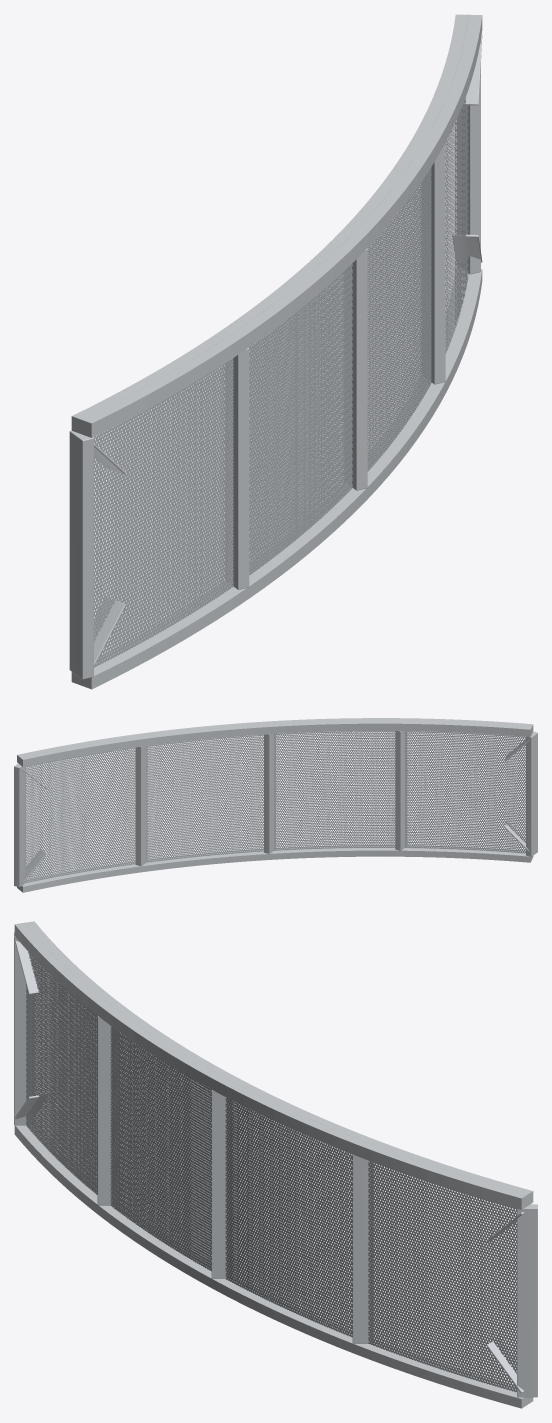
The picture shows the model from 3 angles, top to bottom: view 1: azimuth 30°, elevation 25°; view 2: azimuth 150°, elevation 25°; view 3: azimuth 270°, elevation 25°; orthographic projection. The views are drawn at different scales.
Parts seen in each view (by area): view 1: PO1 0 0 blacha, PO1 0 0 profil gorny, PO1 0 0 profil dolny, PO1 0 0 pion.001, PO1 0 0 pion.004, PO1 0 0 pion.003, PO1 0 0 pion.002, PO1 0 0 pion, PO1 0 0 skos dol.001; view 2: PO1 0 0 blacha, PO1 0 0 profil gorny, PO1 0 0 profil dolny, PO1 0 0 pion.002, PO1 0 0 pion.001, PO1 0 0 pion, PO1 0 0 pion.004, PO1 0 0 pion.003, PO1 0 0 skos dol; view 3: PO1 0 0 blacha, PO1 0 0 profil gorny, PO1 0 0 profil dolny, PO1 0 0 pion, PO1 0 0 pion.002, PO1 0 0 pion.003, PO1 0 0 pion.004, PO1 0 0 pion.001, PO1 0 0 skos gora.001.
Part boxes in pixels (x1,y1,x2,y2): PO1 0 0 blacha: [81, 15, 469, 685]; PO1 0 0 profil gorny: [71, 14, 482, 437]; PO1 0 0 profil dolny: [71, 268, 482, 689]; PO1 0 0 pion.001: [69, 430, 93, 679]; PO1 0 0 pion.004: [225, 348, 249, 589]; PO1 0 0 pion.003: [343, 249, 367, 490]; PO1 0 0 pion.002: [421, 143, 445, 384]; PO1 0 0 pion: [457, 40, 480, 274]; PO1 0 0 skos dol.001: [94, 597, 126, 666]; PO1 0 0 blacha: [25, 720, 528, 882]; PO1 0 0 profil gorny: [17, 718, 533, 766]; PO1 0 0 profil dolny: [17, 845, 533, 892]; PO1 0 0 pion.002: [135, 746, 147, 865]; PO1 0 0 pion.001: [526, 731, 537, 856]; PO1 0 0 pion: [14, 763, 25, 887]; PO1 0 0 pion.004: [395, 731, 407, 850]; PO1 0 0 pion.003: [264, 734, 275, 853]; PO1 0 0 skos dol: [21, 849, 46, 883]; PO1 0 0 blacha: [24, 923, 526, 1392]; PO1 0 0 profil gorny: [14, 921, 533, 1209]; PO1 0 0 profil dolny: [14, 1124, 533, 1408]; PO1 0 0 pion: [517, 1204, 537, 1397]; PO1 0 0 pion.002: [352, 1154, 373, 1343]; PO1 0 0 pion.003: [211, 1090, 231, 1278]; PO1 0 0 pion.004: [97, 1016, 118, 1205]; PO1 0 0 pion.001: [14, 932, 34, 1125]; PO1 0 0 skos gora.001: [15, 940, 48, 994].
Bounding box in the file's own units: 1.56 × 0.55 × 1.24.
Materials: 3 (1 with a texture image).
